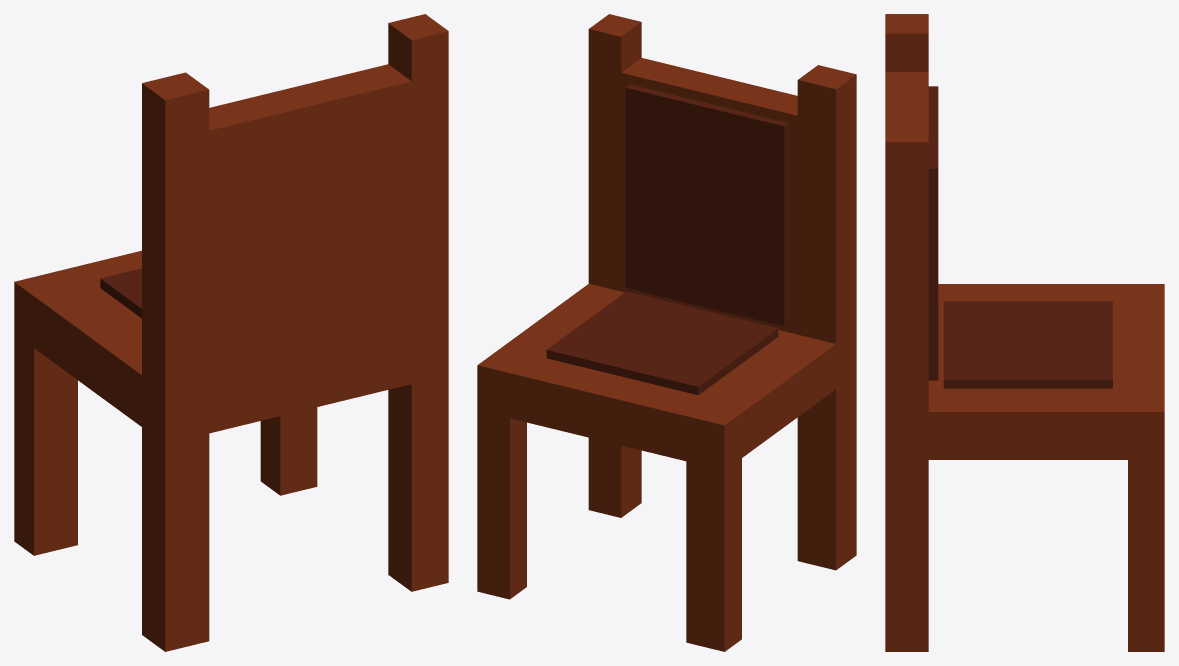
Rendered from Dining_Chair.FBX.
The picture shows the model from 3 angles, left to right: view 1: azimuth 30°, elevation 25°; view 2: azimuth 150°, elevation 25°; view 3: azimuth 270°, elevation 25°; orthographic projection. The views are drawn at different scales.
Parts seen in each view (by area): view 1: dining chair004; view 2: dining chair004; view 3: dining chair004.
Part boxes in pixels (left/top/right/bottom): dining chair004: left=14, top=14, right=448, bottom=651; dining chair004: left=477, top=14, right=856, bottom=651; dining chair004: left=885, top=14, right=1164, bottom=651.
Bounding box in the file's own units: 0.52 × 0.967 × 0.48.
